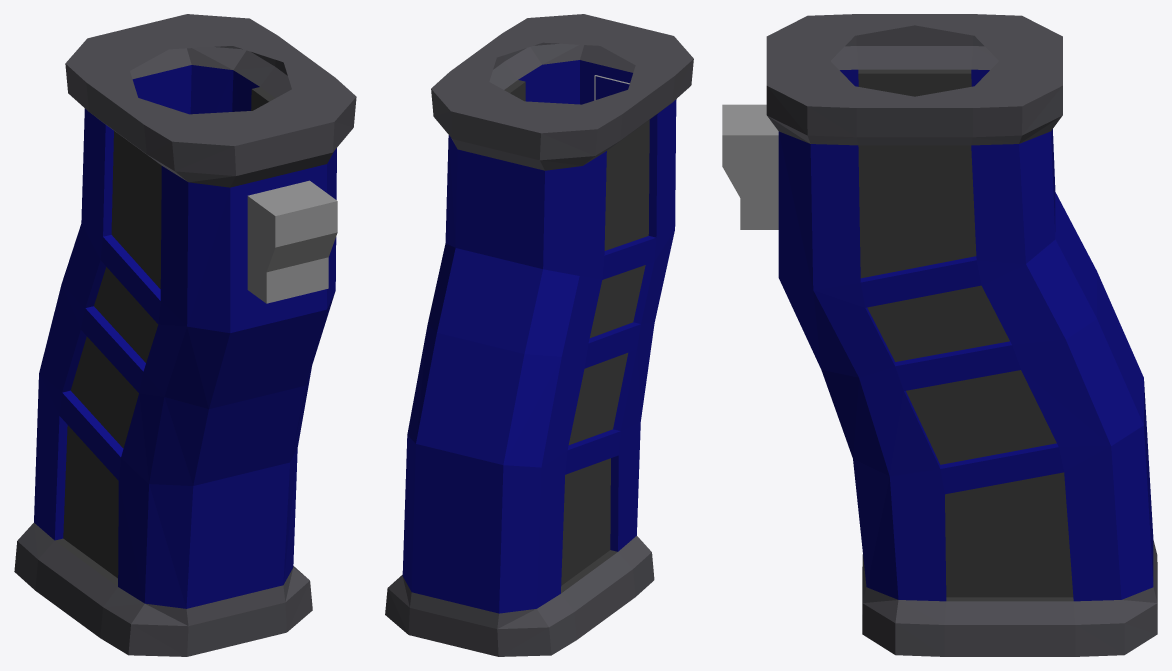
The model's file is Msh_Handle_A_V5.FBX.
The picture shows the model from 3 angles, left to right: view 1: azimuth 30°, elevation 25°; view 2: azimuth 150°, elevation 25°; view 3: azimuth 270°, elevation 25°; orthographic projection. The views are drawn at different scales.
Visible parts, largest first — view 1: Msh_Handle_V5; view 2: Msh_Handle_V5; view 3: Msh_Handle_V5.
Boxes of the visible parts, box(x1,y1,x2,y2) form: Msh_Handle_V5: box(14, 14, 356, 656); Msh_Handle_V5: box(385, 14, 693, 656); Msh_Handle_V5: box(722, 14, 1157, 656).
Bounding box in the file's own units: 0.0358 × 0.0701 × 0.0975.
